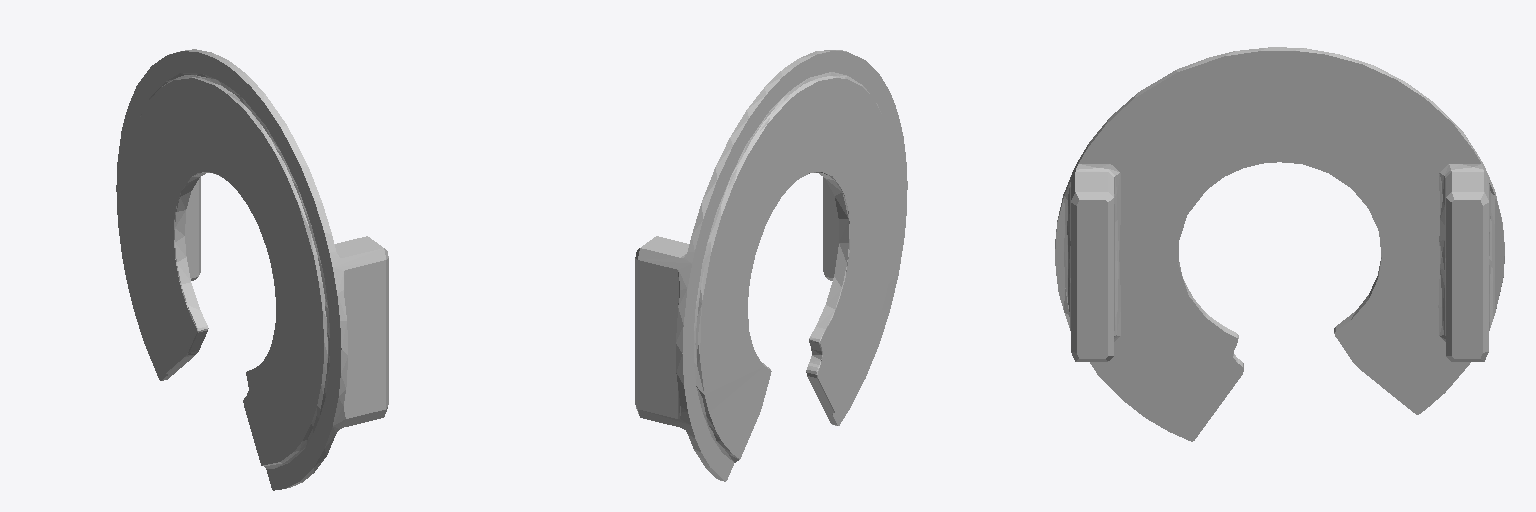
The model's file is upper_arm_roll.obj.
The picture shows the model from 3 angles: view 1: azimuth 30°, elevation 25°; view 2: azimuth 150°, elevation 25°; view 3: azimuth 270°, elevation 25°; orthographic projection.
Visible parts, largest first — view 1: upper_arm_roll_M_upper_arm_roll_MShape; view 2: upper_arm_roll_M_upper_arm_roll_MShape; view 3: upper_arm_roll_M_upper_arm_roll_MShape.
Part boxes in pixels (bbox=[...]): upper_arm_roll_M_upper_arm_roll_MShape: bbox=[116, 49, 388, 490]; upper_arm_roll_M_upper_arm_roll_MShape: bbox=[635, 50, 907, 481]; upper_arm_roll_M_upper_arm_roll_MShape: bbox=[1055, 47, 1504, 441].
Size of the model in its own units: 0.023 by 0.1381 by 0.1441.